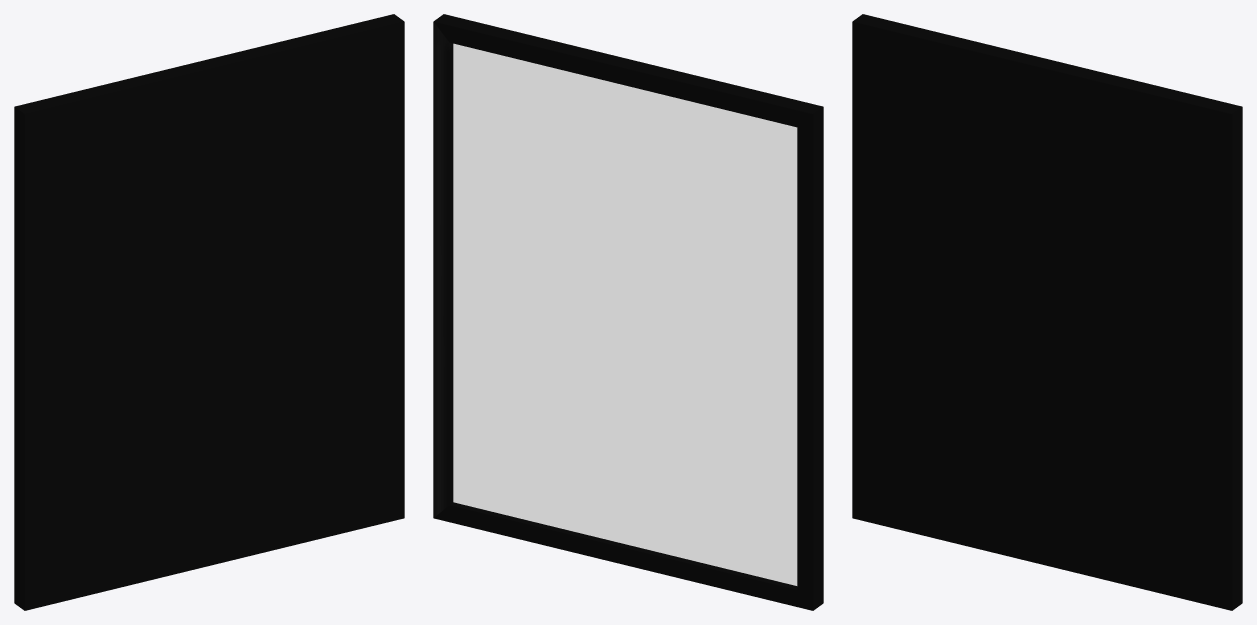
The model's file is simple_picture.glb.
3 renders of one model, left to right at view 1: azimuth 30°, elevation 25°; view 2: azimuth 150°, elevation 25°; view 3: azimuth 330°, elevation 25°, orthographic.
Visible parts, largest first — view 1: pCube1; view 2: pCube1; view 3: pCube1.
Boxes of the visible parts, left/top/right/bottom form: pCube1: left=14, top=14, right=404, bottom=610; pCube1: left=433, top=14, right=823, bottom=610; pCube1: left=852, top=14, right=1242, bottom=610.
Size of the model in its own units: 1.33 by 1.66 by 0.0627.
1 material, 1 textured.
